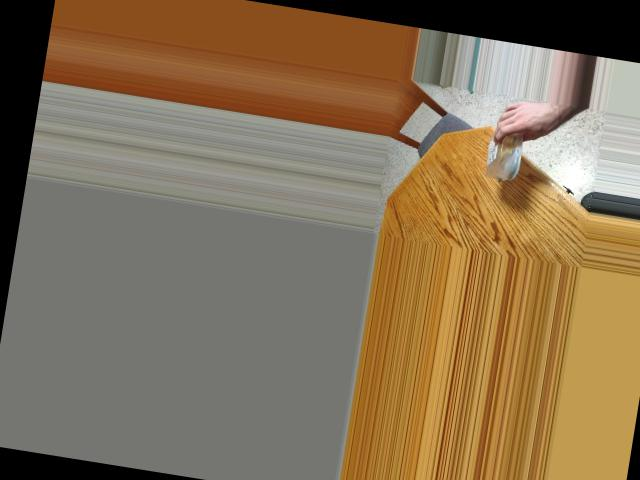cheese: (474, 108, 539, 180)
